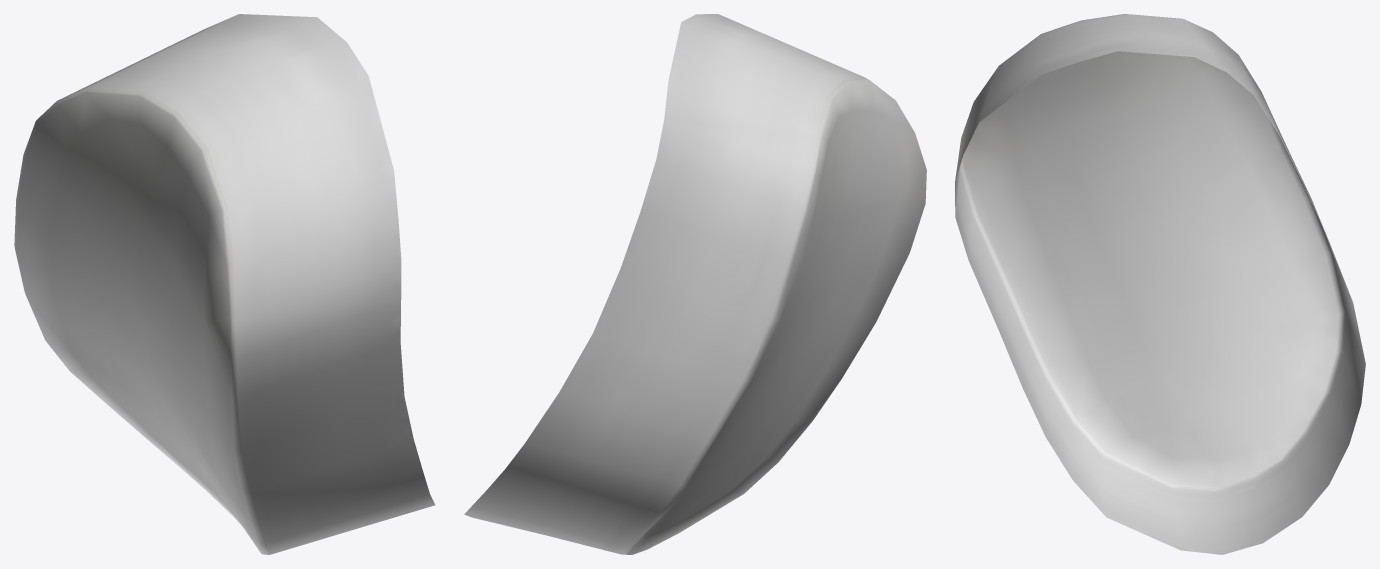
3 views of the same model, side by side, from view 1: azimuth 30°, elevation 25°; view 2: azimuth 150°, elevation 25°; view 3: azimuth 270°, elevation 25° (orthographic). The views are drawn at different scales.
Bounding box in the file's own units: 0.0146 × 0.0209 × 0.0174.
Materials: 1 (1 with a texture image).
